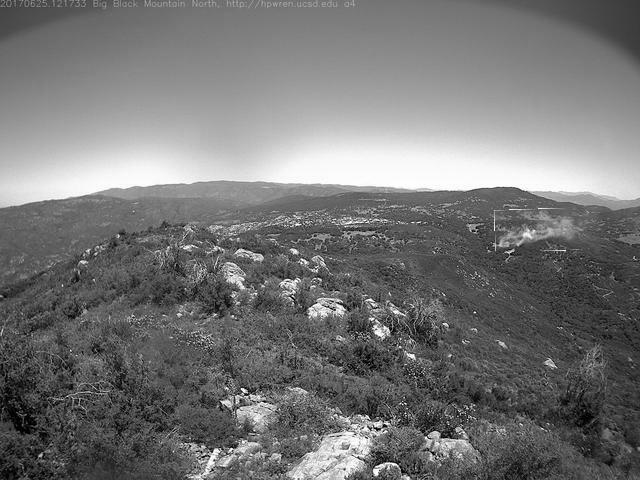smoke: (496, 210, 581, 253)
